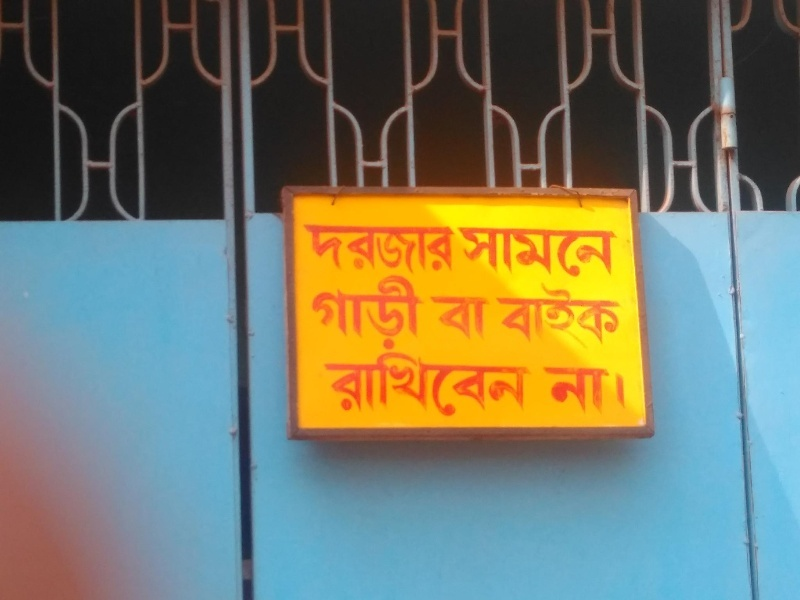text: (609, 277, 625, 352), (321, 273, 336, 352), (337, 273, 352, 352), (353, 273, 368, 352), (369, 273, 384, 352), (385, 273, 400, 352), (401, 273, 416, 352), (513, 277, 528, 352), (529, 277, 544, 352), (545, 277, 560, 352), (561, 277, 576, 352), (577, 277, 592, 352), (593, 277, 608, 352), (498, 277, 512, 352), (337, 350, 352, 418), (353, 350, 368, 418), (369, 350, 384, 418), (385, 350, 400, 418), (401, 350, 416, 418), (417, 350, 432, 418), (433, 350, 448, 418), (449, 350, 464, 418), (465, 350, 480, 418), (481, 350, 496, 418), (497, 350, 512, 418), (513, 350, 528, 418), (545, 359, 560, 417), (561, 359, 576, 417), (577, 359, 592, 417), (593, 359, 608, 417), (609, 359, 624, 417), (324, 350, 336, 418), (310, 273, 320, 352), (417, 273, 427, 352), (465, 225, 480, 277), (481, 225, 496, 277), (497, 225, 512, 277), (513, 225, 528, 277), (529, 225, 544, 277), (545, 225, 560, 277), (561, 225, 576, 277), (577, 225, 592, 277), (593, 225, 608, 277), (609, 225, 624, 277), (433, 295, 448, 345), (449, 295, 464, 345), (465, 295, 480, 345), (305, 222, 320, 271), (321, 222, 336, 271), (337, 222, 352, 271), (353, 222, 368, 271), (369, 222, 384, 271), (385, 222, 400, 271), (401, 222, 416, 271), (417, 222, 432, 271), (433, 222, 448, 271), (625, 359, 633, 417), (481, 295, 490, 345), (529, 350, 535, 418), (449, 222, 456, 271), (459, 225, 464, 277), (625, 225, 628, 277), (429, 295, 432, 345), (543, 359, 544, 417)
